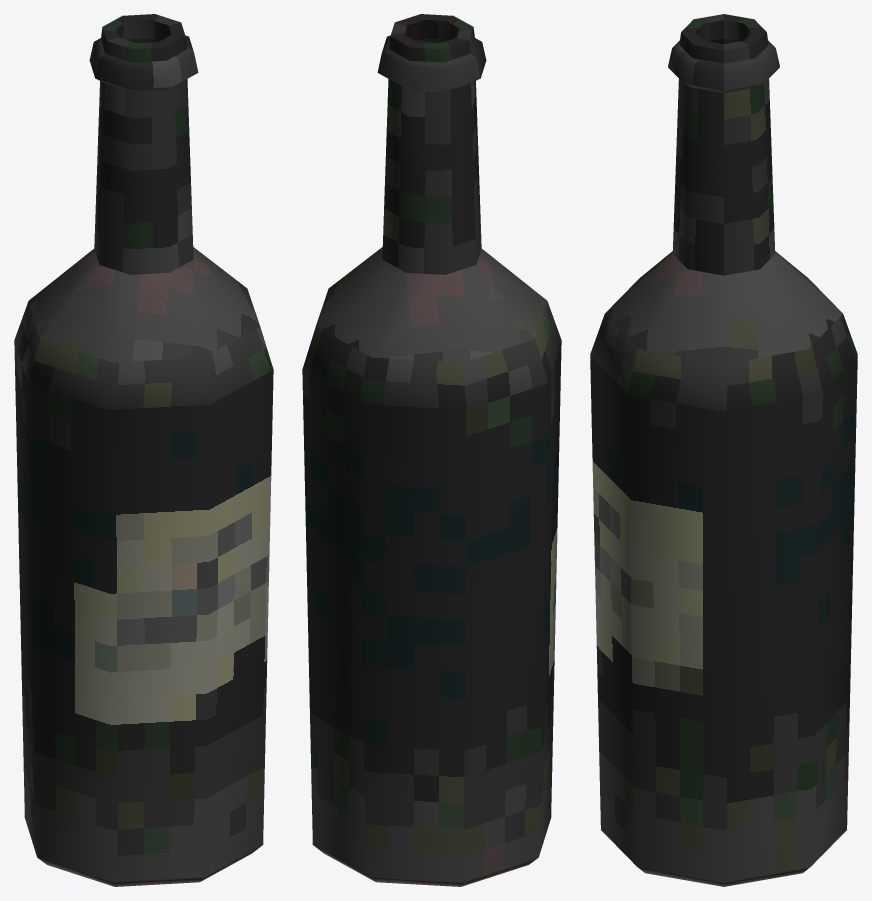
File: Bottle.fbx
3 views of the same model, side by side, from view 1: azimuth 30°, elevation 25°; view 2: azimuth 150°, elevation 25°; view 3: azimuth 270°, elevation 25° (orthographic).
Parts seen in each view (by area): view 1: Bottle; view 2: Bottle; view 3: Bottle.
Boxes of the visible parts, x1,y1,x2,y2 form: Bottle: (14,14,273,886); Bottle: (302,14,561,886); Bottle: (590,14,857,886).
Size of the model in its own units: 0.1005 by 0.1005 by 0.3345.
